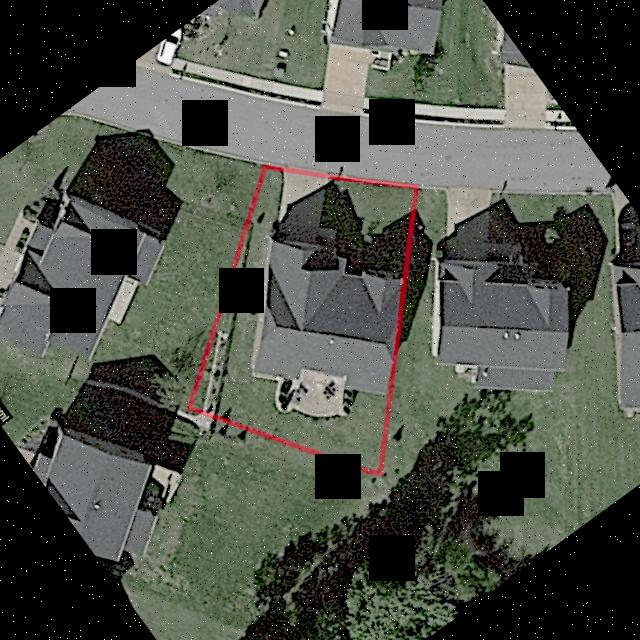Driveway: (271, 172, 335, 244)
House: (249, 241, 400, 393)
Sidewalk: (274, 378, 343, 416)
